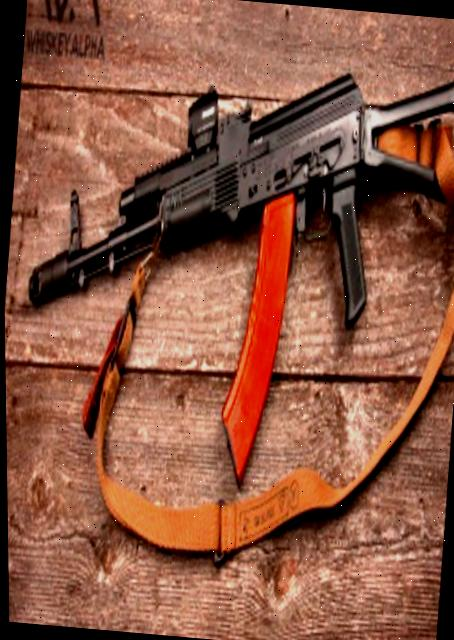rifle: (13, 28, 454, 353)
